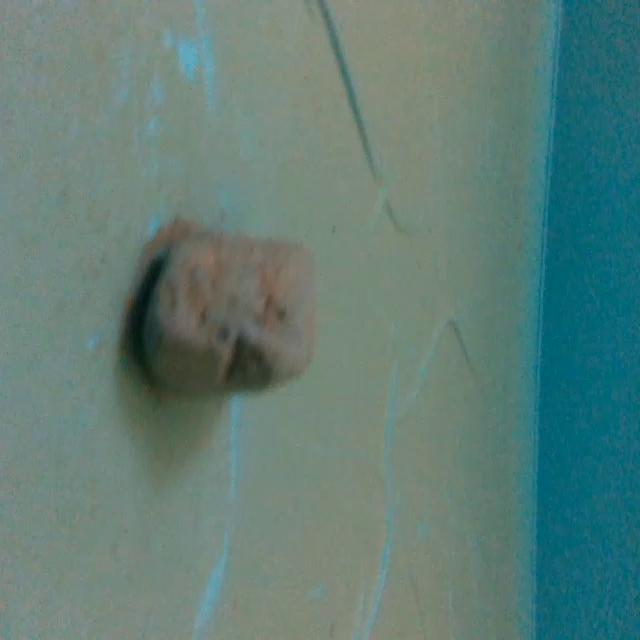rock: (138, 224, 322, 402)
